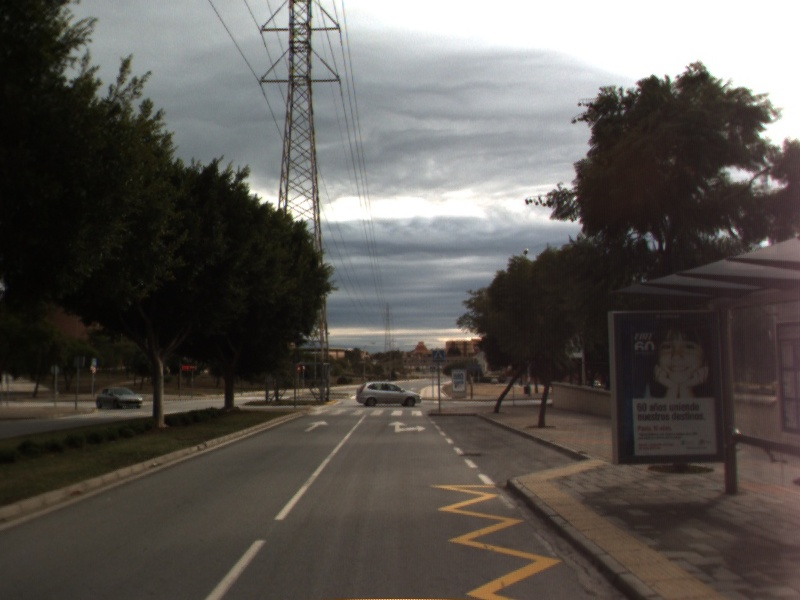STRAIGHT: (302, 418, 331, 434)
STRAIGHT_RIGHT: (386, 418, 428, 435)
